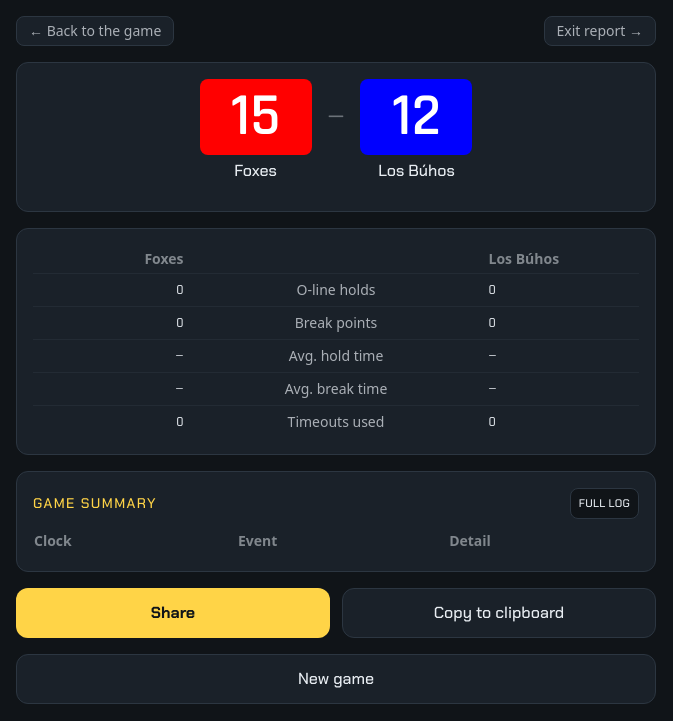
it: report screen — share as image › falls back to downloading the PNG when the browser cannot share files
The width and height of the screenshot is (673, 721).
Click the button "Share" at (173, 612), box [16, 588, 330, 638]
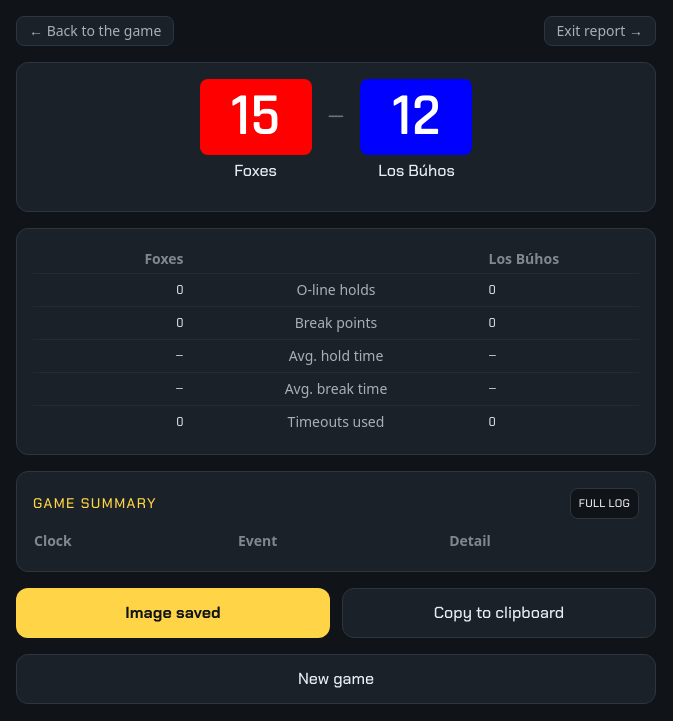
Check: the button "Image saved" is shown, box [16, 588, 330, 638]
